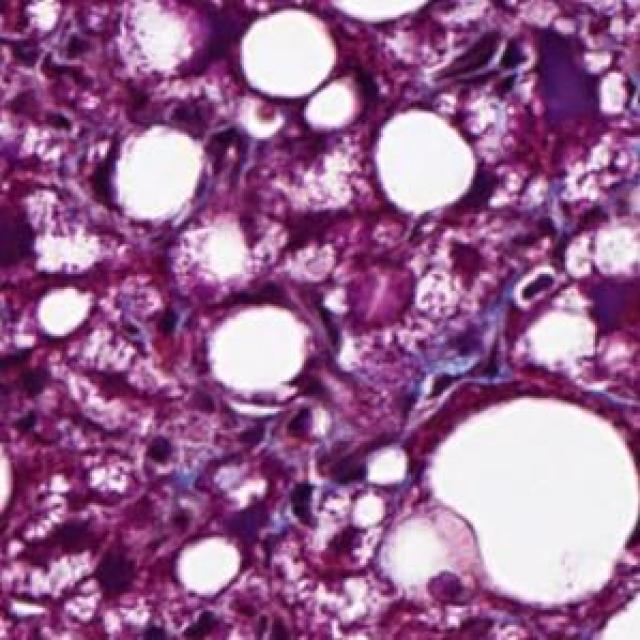inflammation: (426, 26, 546, 107), (280, 443, 379, 533), (501, 259, 571, 313)
